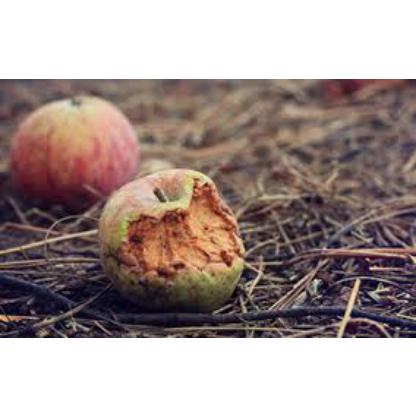damaged_apple: (96, 178, 252, 306), (13, 103, 141, 199)
